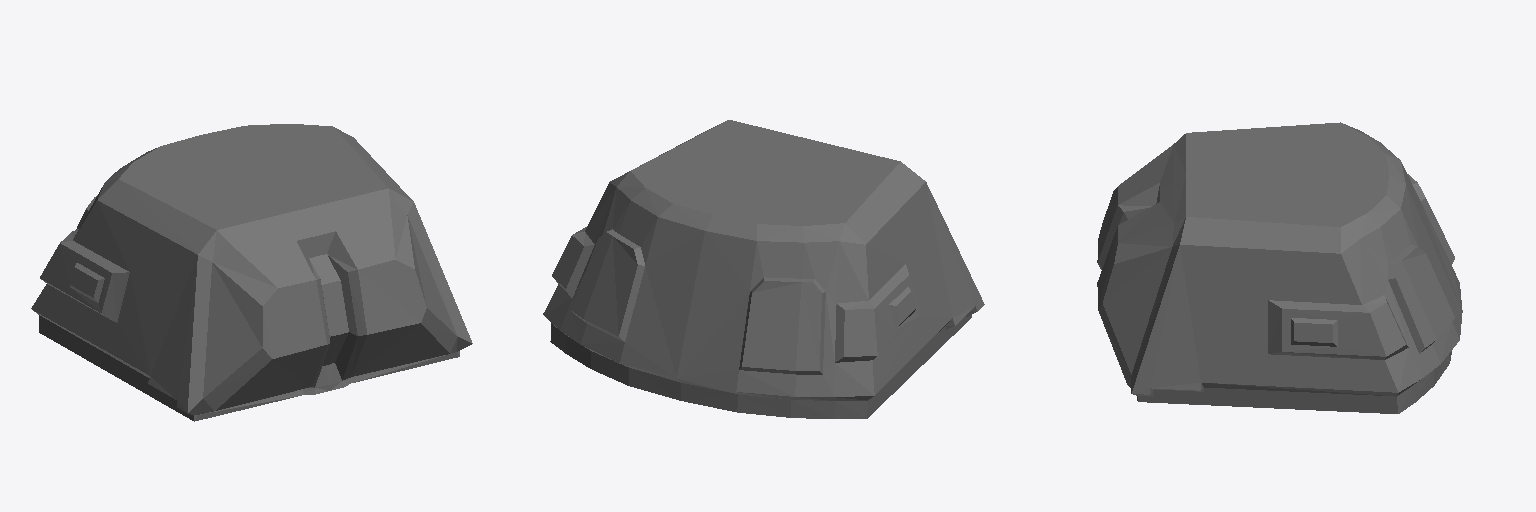
The model's file is cruiser_ion.obj.
The picture shows the model from 3 angles: view 1: azimuth 30°, elevation 25°; view 2: azimuth 150°, elevation 25°; view 3: azimuth 270°, elevation 25°; orthographic projection.
Visible parts, largest first — view 1: Tai_HeavyCruiserGun; view 2: Tai_HeavyCruiserGun; view 3: Tai_HeavyCruiserGun.
Boxes of the visible parts, x1=… form: Tai_HeavyCruiserGun: x1=31, y1=124, x2=472, y2=421; Tai_HeavyCruiserGun: x1=543, y1=120, x2=984, y2=418; Tai_HeavyCruiserGun: x1=1097, y1=122, x2=1462, y2=413.
Size of the model in its own units: 38.17 by 17.84 by 36.39.